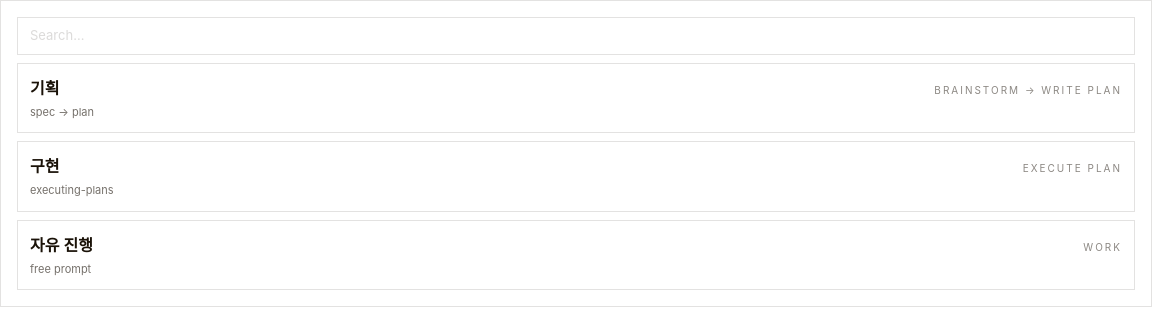
<PackagePicker> › 검색어로 패키지를 필터한다
Expected: the button "기획 Brainstorm → Write plan spec → plan" is shown, [17,62,1135,133]
Expected: the button "구현 Execute plan executing-plans" is shown, [17,141,1135,212]
Type "구현" into the search field.
click(576, 36); type("구현")  # box [17,17,1135,54]
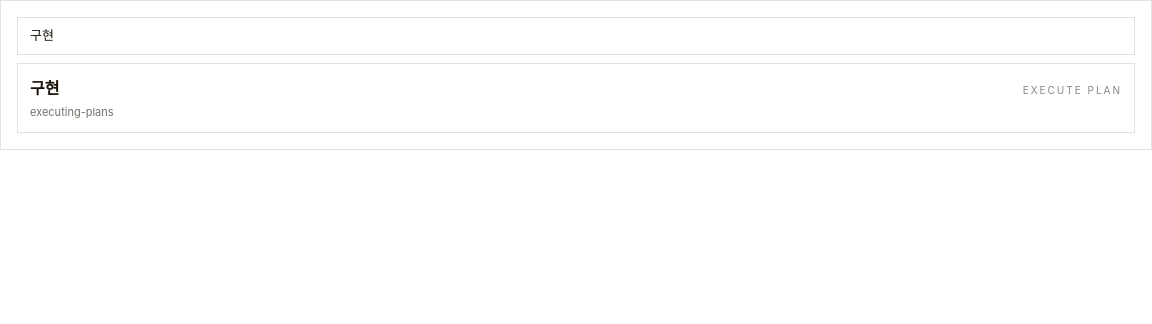
Expected: the button "구현 Execute plan executing-plans" is shown, [17,62,1135,133]
Expected: the button "기획" is gone
Expected: the button "자유 진행" is gone
